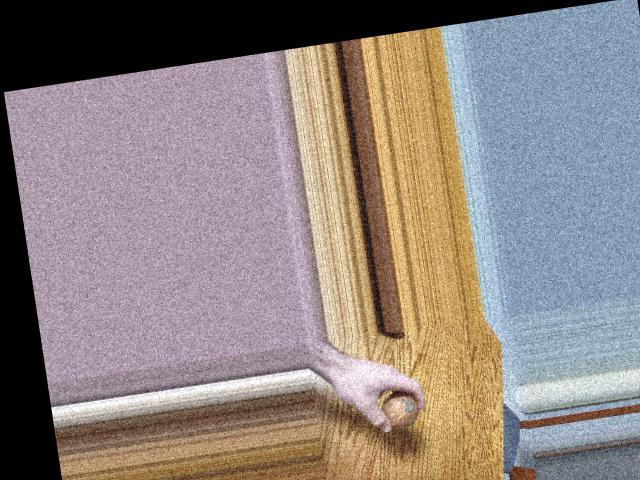onion: (373, 383, 423, 429)
